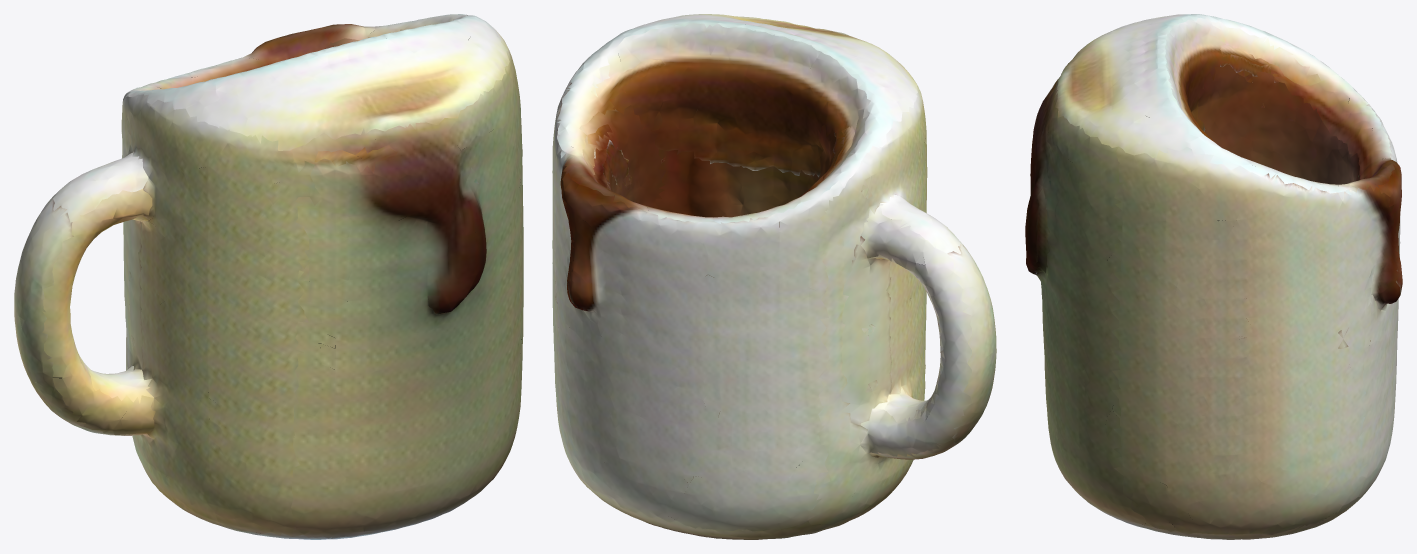
File: coffee_mug.glb
3 renders of one model, left to right at view 1: azimuth 30°, elevation 25°; view 2: azimuth 150°, elevation 25°; view 3: azimuth 270°, elevation 25°, orthographic. The views are drawn at different scales.
Parts seen in each view (by area): view 1: world; view 2: world; view 3: world.
Part boxes in pixels (x1,y1,x2,y2): world: (14,14,523,539); world: (552,14,996,539); world: (1025,14,1402,539).
Size of the model in its own units: 0.9965 by 0.9712 by 0.7615.
Materials: 1 (1 with a texture image).
